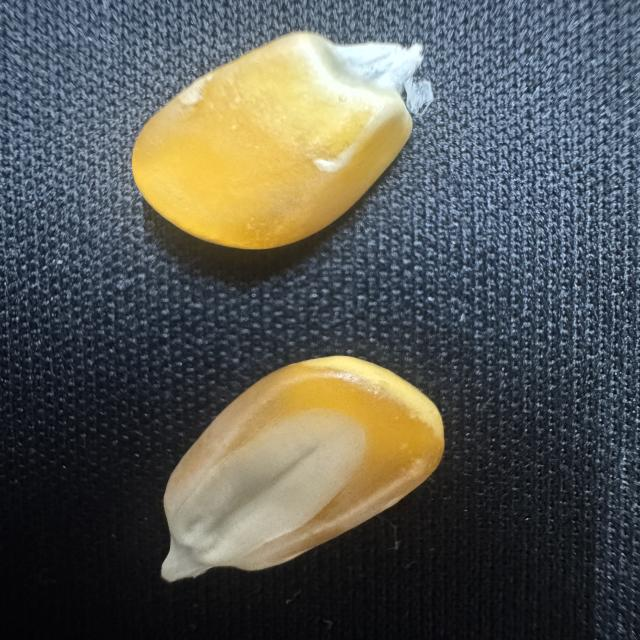Good-Seed: (117, 24, 439, 260), (148, 348, 452, 588)
